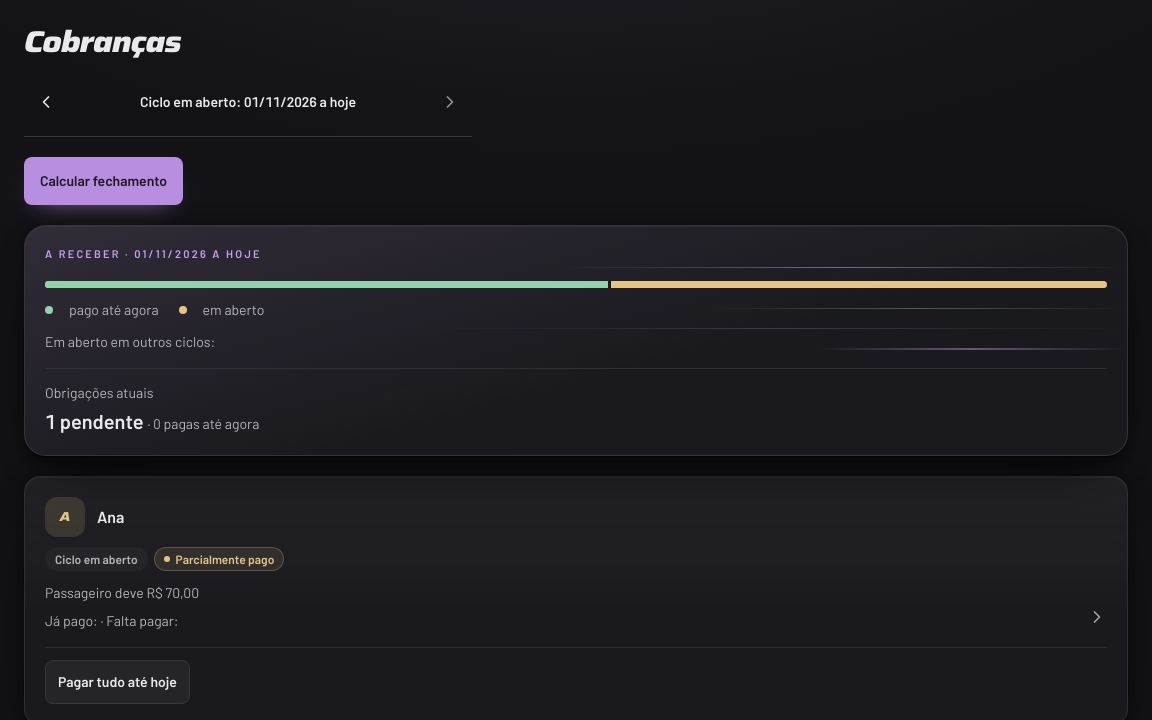
it: STALE_OBLIGATION › reloads the data and tells the user nothing was done
This screenshot has width=1152, height=720.
Click the button "Pagar tudo até hoje".
click(117, 682)  # box [45, 660, 190, 704]
(page scrolled)
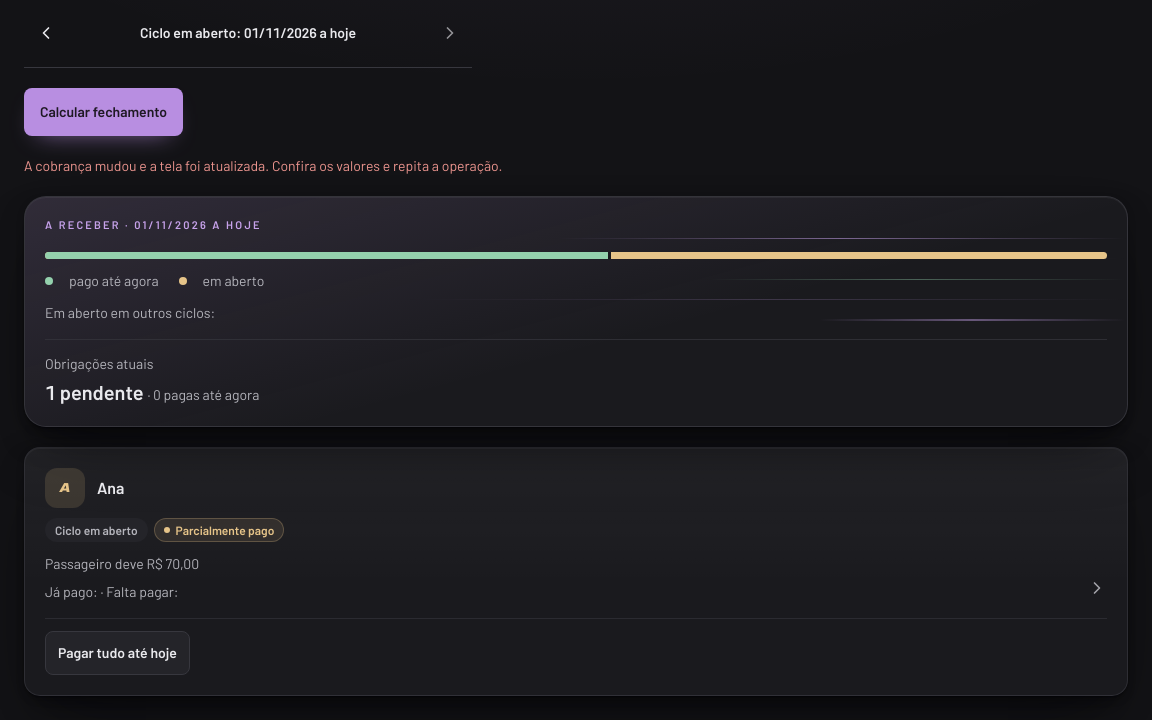
Check: the button "Pagar tudo até hoje" is enabled, box [45, 630, 190, 674]
Check: the message shows "A cobrança mudou e a tela foi atualizada. Confira os valores e repita a operação.", box [24, 157, 502, 174]
